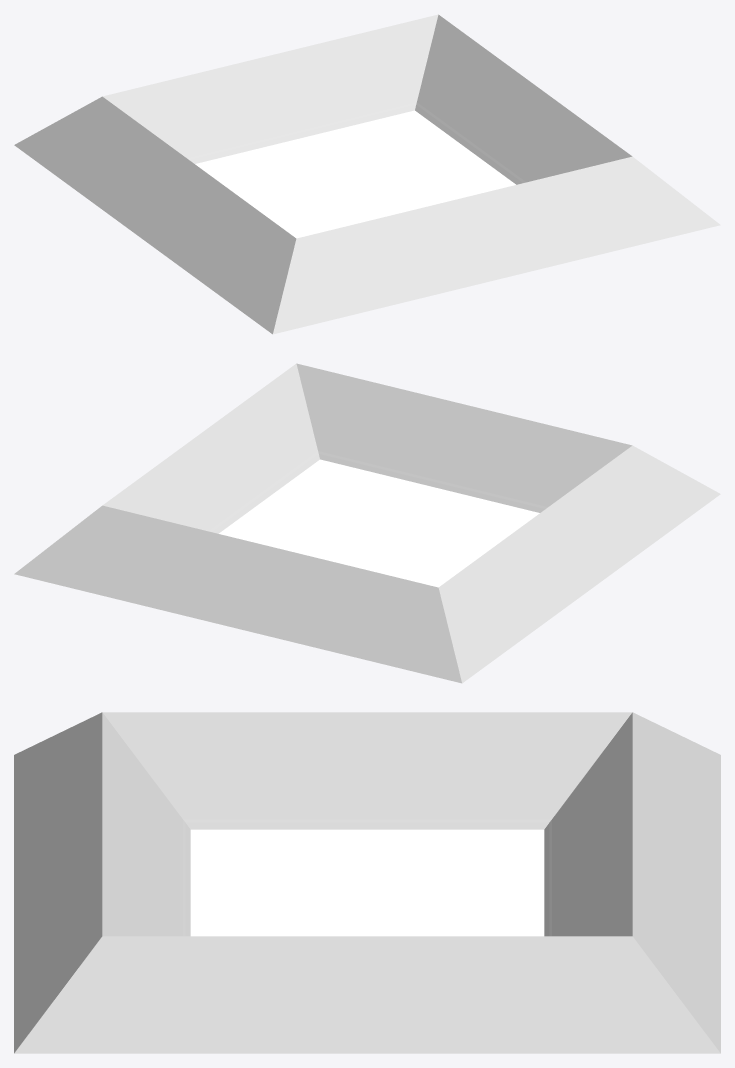
Rendered from Square.fbx.
The picture shows the model from 3 angles, top to bottom: view 1: azimuth 30°, elevation 25°; view 2: azimuth 150°, elevation 25°; view 3: azimuth 270°, elevation 25°; orthographic projection. The views are drawn at different scales.
Parts seen in each view (by area): view 1: Plane, Plane.001; view 2: Plane, Plane.001; view 3: Plane, Plane.001.
Boxes of the visible parts, bbox=[...] form: Plane: bbox=[14, 14, 720, 334]; Plane.001: bbox=[195, 110, 515, 238]; Plane: bbox=[14, 363, 720, 683]; Plane.001: bbox=[219, 459, 539, 587]; Plane: bbox=[14, 712, 720, 1053]; Plane.001: bbox=[190, 829, 544, 936].
Size of the model in its own units: 1 by 0.125 by 1.
